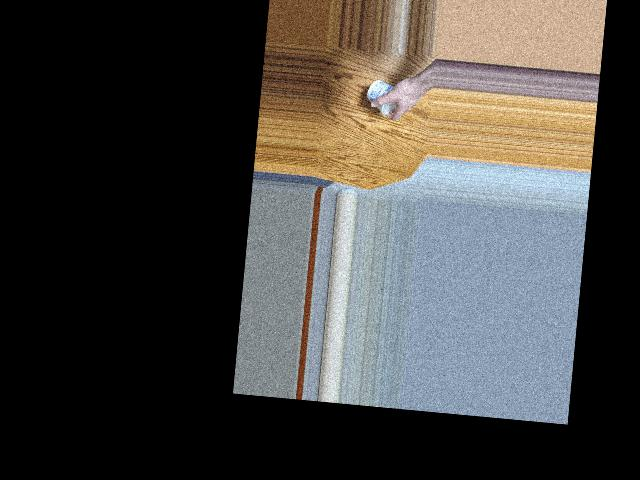cotage: (368, 75, 403, 116)
